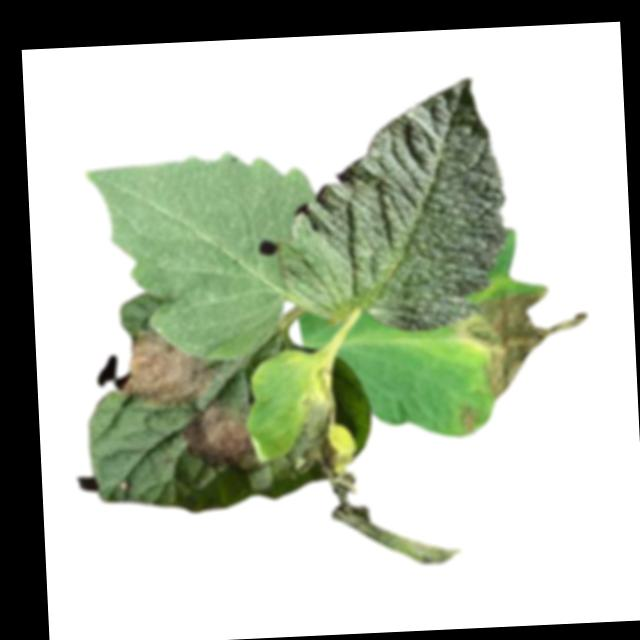Late_blight: (284, 370, 463, 571), (459, 286, 591, 401), (113, 318, 219, 408), (174, 397, 264, 476), (455, 401, 483, 436)
